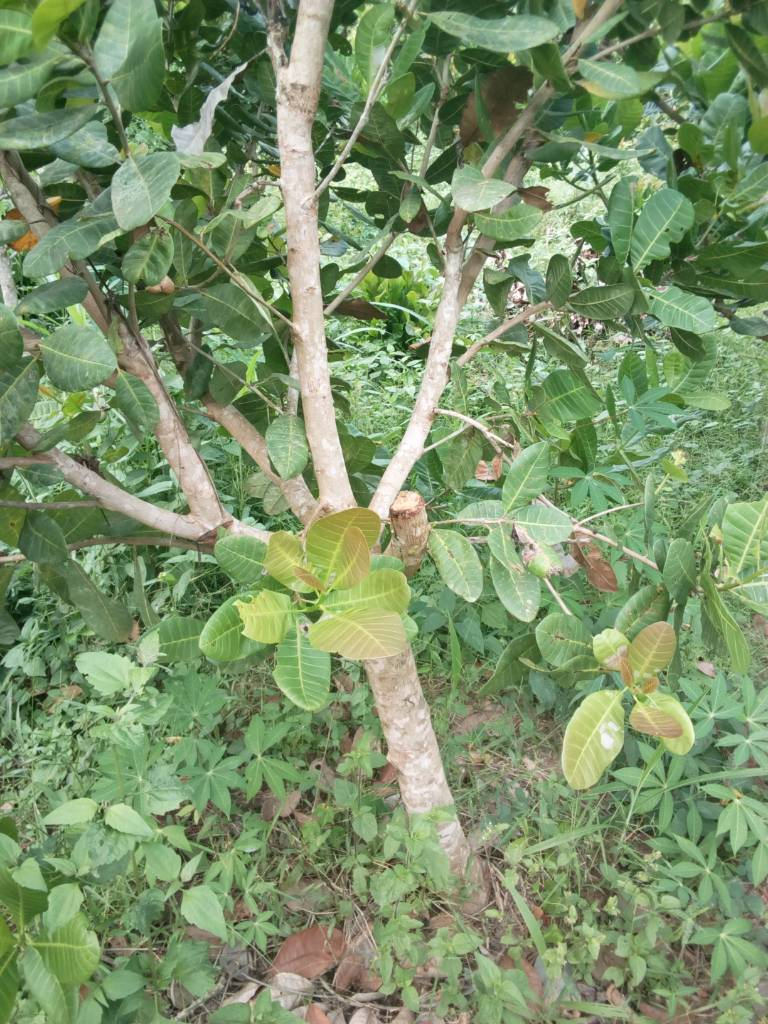Anoplonemis curvipes: (219, 590, 291, 657)
